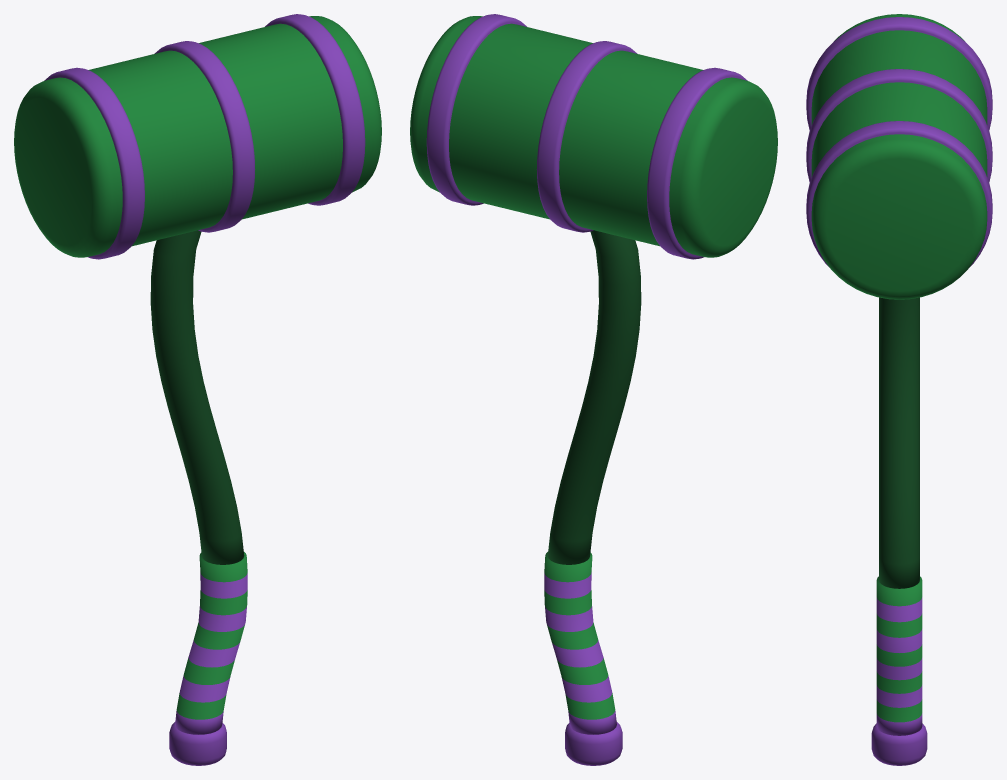
The model's file is hammer_hebidaru.fbx.
3 views of the same model, side by side, from view 1: azimuth 30°, elevation 25°; view 2: azimuth 150°, elevation 25°; view 3: azimuth 270°, elevation 25° (orthographic). The views are drawn at different scales.
Visible parts, largest first — view 1: hebidaru_hammer; view 2: hebidaru_hammer; view 3: hebidaru_hammer.
Part boxes in pixels (x1,y1,x2,y2): hebidaru_hammer: (14,14,381,765); hebidaru_hammer: (410,14,777,765); hebidaru_hammer: (806,14,992,765).
Bounding box in the file's own units: 1.1 × 2.58 × 0.636.
